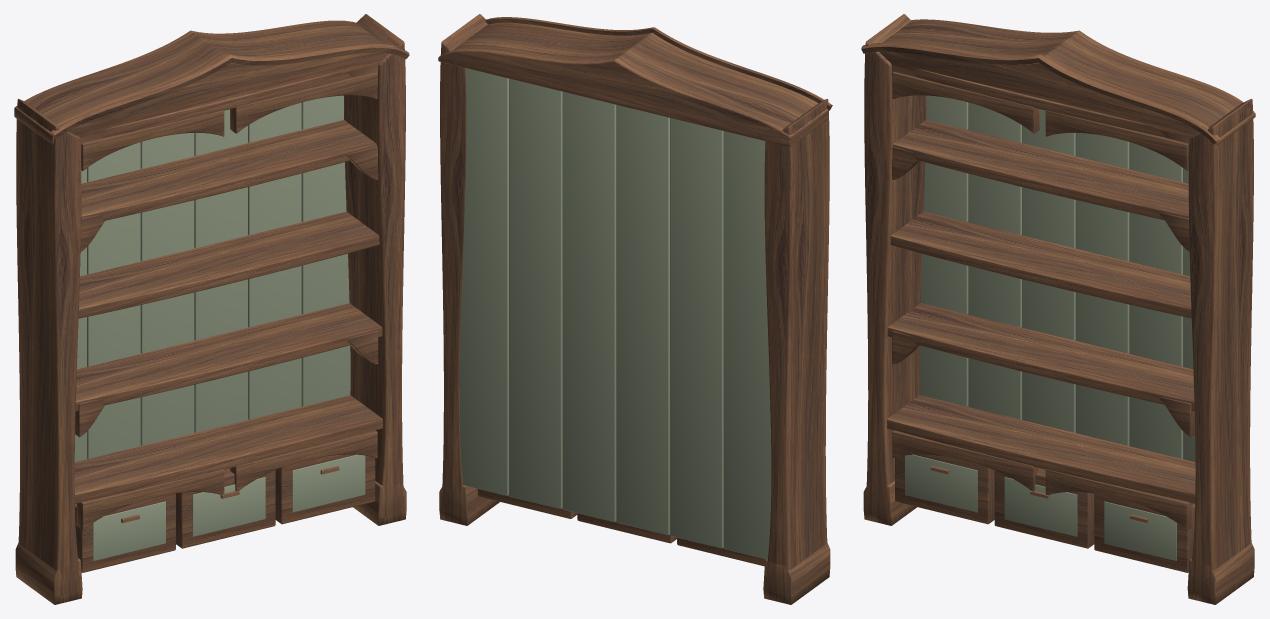
Rendered from CM_SW12_MedicineCabinet.fbx.
3 views of the same model, side by side, from view 1: azimuth 30°, elevation 25°; view 2: azimuth 150°, elevation 25°; view 3: azimuth 330°, elevation 25° (orthographic).
Parts seen in each view (by area): view 1: CM_SW12_MedicineCabinet; view 2: CM_SW12_MedicineCabinet; view 3: CM_SW12_MedicineCabinet.
Part boxes in pixels (x1,y1,x2,y2): CM_SW12_MedicineCabinet: (14,14,409,604); CM_SW12_MedicineCabinet: (438,14,832,604); CM_SW12_MedicineCabinet: (861,14,1255,604).
Bounding box in the file's own units: 1.86 × 2.53 × 0.375.
